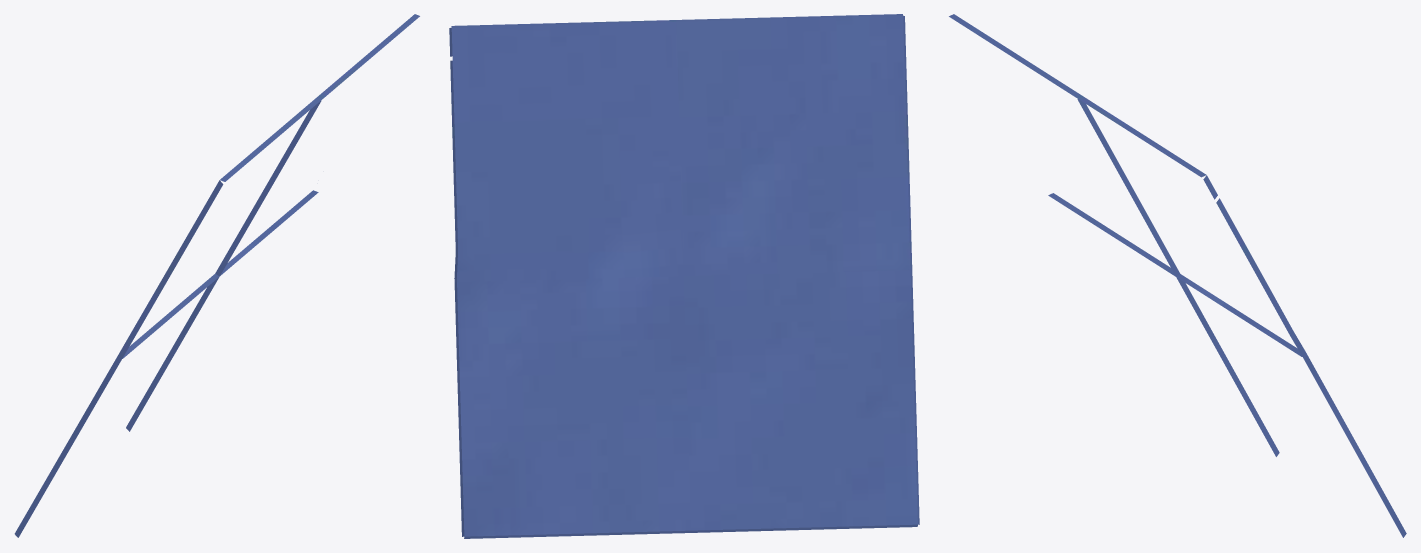
The picture shows the model from 3 angles, left to right: view 1: azimuth 30°, elevation 25°; view 2: azimuth 150°, elevation 25°; view 3: azimuth 270°, elevation 25°; orthographic projection. The views are drawn at different scales.
Size of the model in its own units: 39406 by 35104 by 34904.
1 material, 1 textured.
